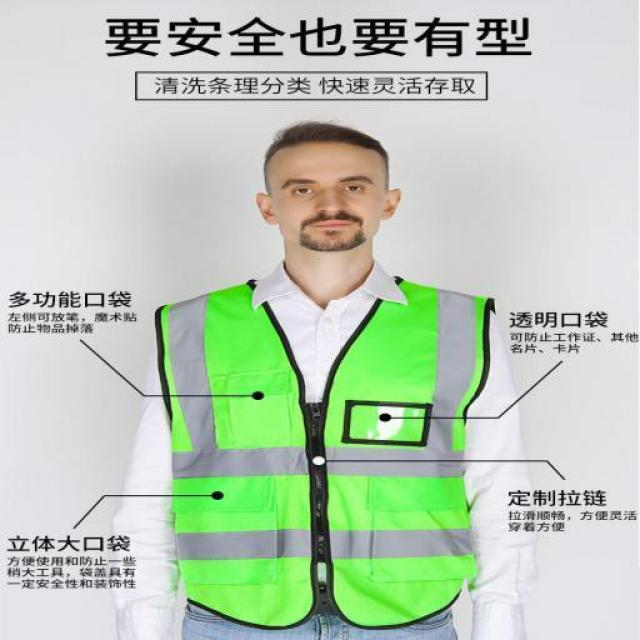vest: (150, 284, 494, 616)
